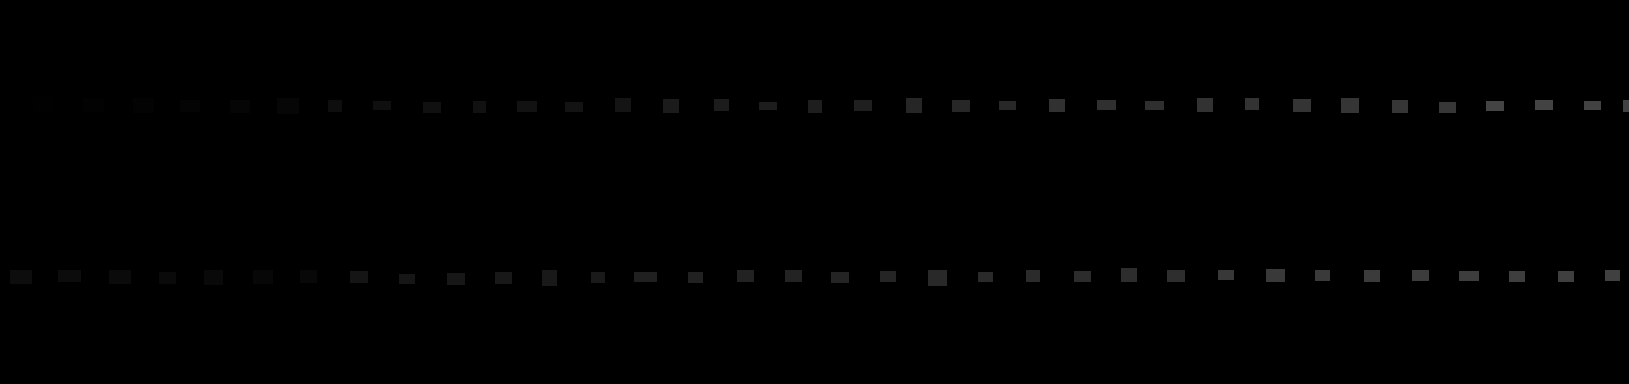light: (277, 98, 299, 114), (928, 270, 947, 286), (33, 97, 54, 112), (133, 98, 154, 113), (109, 270, 131, 284), (10, 270, 32, 284), (204, 270, 223, 285), (83, 98, 104, 112), (253, 270, 273, 284), (58, 270, 81, 282), (230, 100, 250, 113), (1341, 98, 1359, 113), (180, 100, 201, 112), (1266, 269, 1285, 282), (906, 98, 922, 113), (542, 270, 557, 286), (663, 99, 679, 113), (1197, 98, 1213, 112), (1293, 99, 1311, 112), (634, 272, 657, 282), (447, 273, 465, 285), (952, 100, 970, 112), (1167, 270, 1185, 282), (615, 98, 631, 112), (1121, 268, 1137, 282), (517, 101, 537, 112), (300, 270, 317, 283), (350, 271, 368, 283), (495, 272, 512, 284), (737, 270, 754, 282), (1459, 271, 1479, 281), (1049, 99, 1065, 112), (1392, 100, 1408, 113), (159, 272, 176, 284), (785, 270, 802, 282), (423, 102, 440, 113), (854, 100, 872, 111), (831, 272, 849, 283), (714, 99, 729, 111), (1097, 100, 1116, 110), (1364, 270, 1380, 282), (1486, 101, 1504, 111), (1074, 271, 1091, 282), (1439, 102, 1456, 113), (1412, 270, 1428, 281), (1508, 271, 1525, 282), (565, 102, 583, 112), (1535, 100, 1553, 110), (808, 100, 822, 113), (1245, 98, 1259, 110), (688, 272, 703, 283), (880, 271, 896, 282), (1558, 271, 1574, 282), (1145, 101, 1164, 110), (1218, 270, 1234, 280), (328, 100, 342, 112), (473, 101, 486, 113), (1026, 270, 1040, 282), (1315, 270, 1330, 281), (1605, 270, 1620, 281), (373, 101, 391, 110), (399, 274, 415, 284), (978, 272, 993, 282), (999, 101, 1016, 110), (1584, 101, 1601, 110), (591, 272, 605, 283), (759, 102, 777, 110), (1623, 100, 1629, 112)
